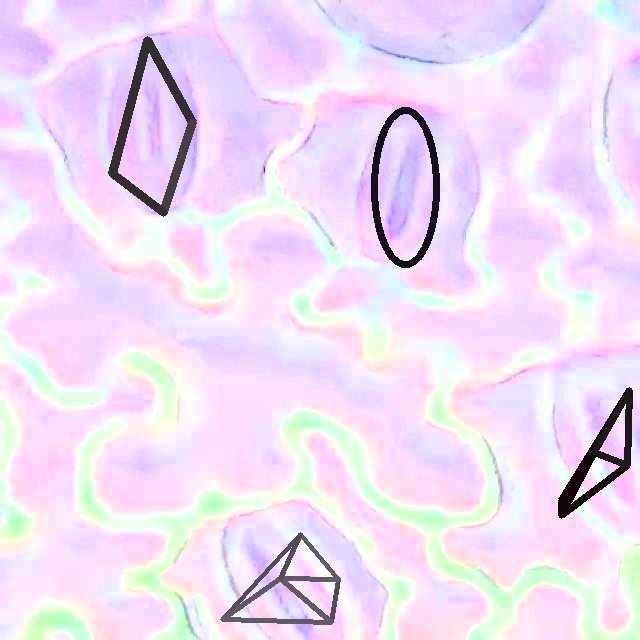open: (109, 37, 195, 215), (370, 106, 440, 268), (221, 533, 339, 623), (558, 387, 630, 518)
